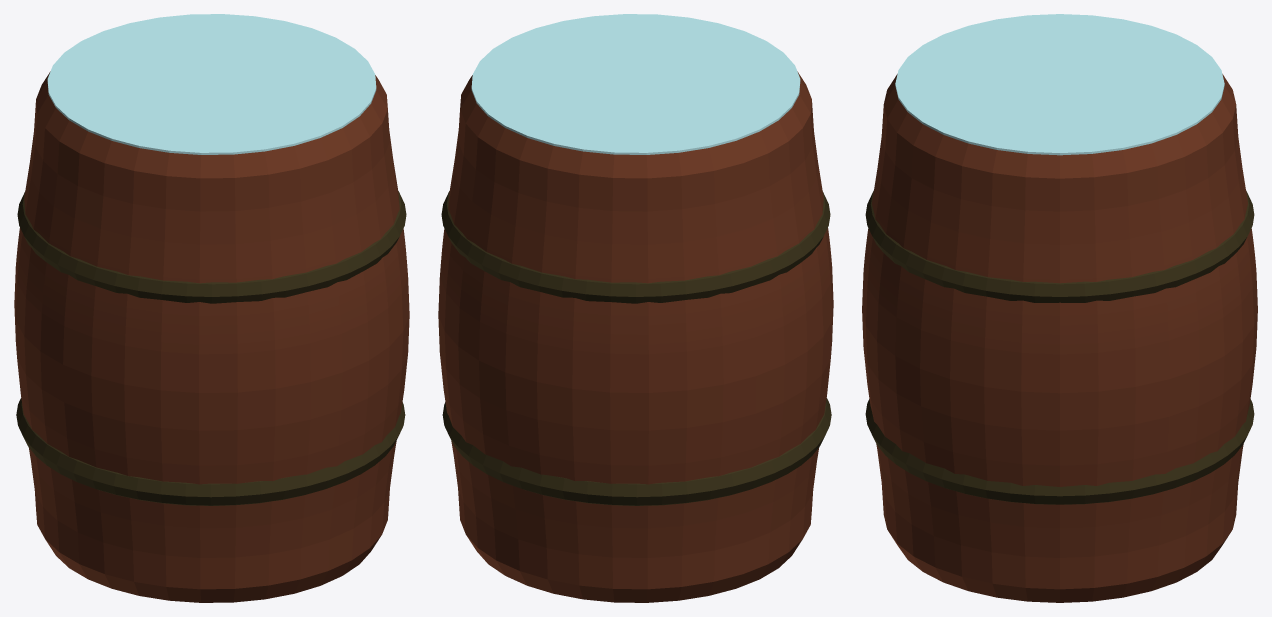
Rendered from Barrel.fbx.
The picture shows the model from 3 angles, left to right: view 1: azimuth 30°, elevation 25°; view 2: azimuth 150°, elevation 25°; view 3: azimuth 270°, elevation 25°; orthographic projection.
Visible parts, largest first — view 1: Cylinder, Cylinder.002, Torus.001, Torus; view 2: Cylinder, Cylinder.002, Torus.001, Torus; view 3: Cylinder, Cylinder.002, Torus, Torus.001.
Part boxes in pixels (x1=…): Cylinder: x1=14, y1=71, x2=409, y2=602; Cylinder.002: x1=47, y1=14, x2=376, y2=154; Torus.001: x1=16, y1=398, x2=405, y2=505; Torus: x1=17, y1=191, x2=406, y2=303; Cylinder: x1=438, y1=71, x2=833, y2=602; Cylinder.002: x1=471, y1=14, x2=800, y2=154; Torus.001: x1=442, y1=398, x2=831, y2=505; Torus: x1=441, y1=191, x2=830, y2=303; Cylinder: x1=862, y1=74, x2=1257, y2=602; Cylinder.002: x1=895, y1=14, x2=1224, y2=155; Torus: x1=865, y1=190, x2=1254, y2=302; Torus.001: x1=865, y1=399, x2=1254, y2=504.
Bounding box in the file's own units: 2.4 × 3.01 × 2.4.
